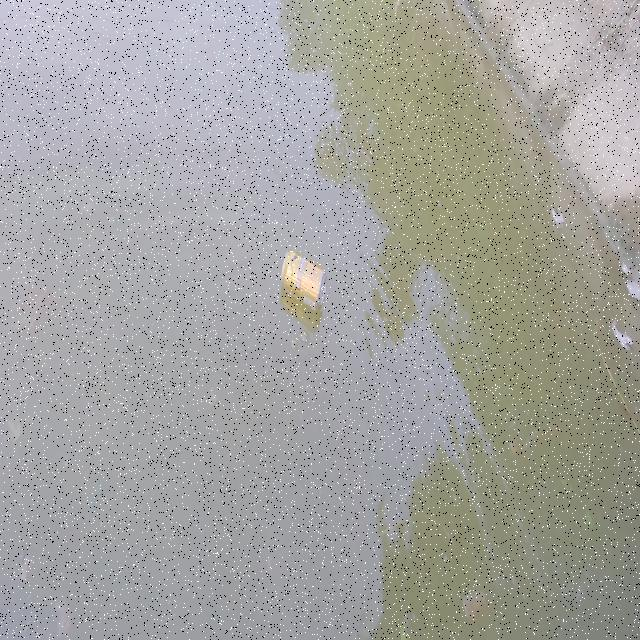Can: (278, 247, 327, 314)
